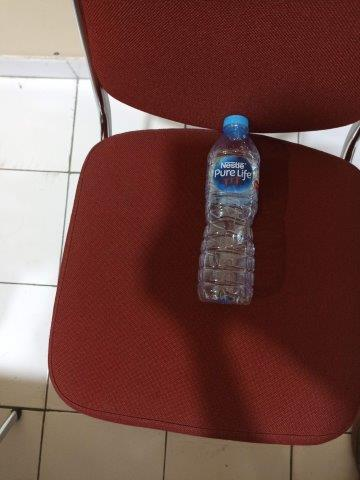botolplastik: (198, 115, 260, 305)
